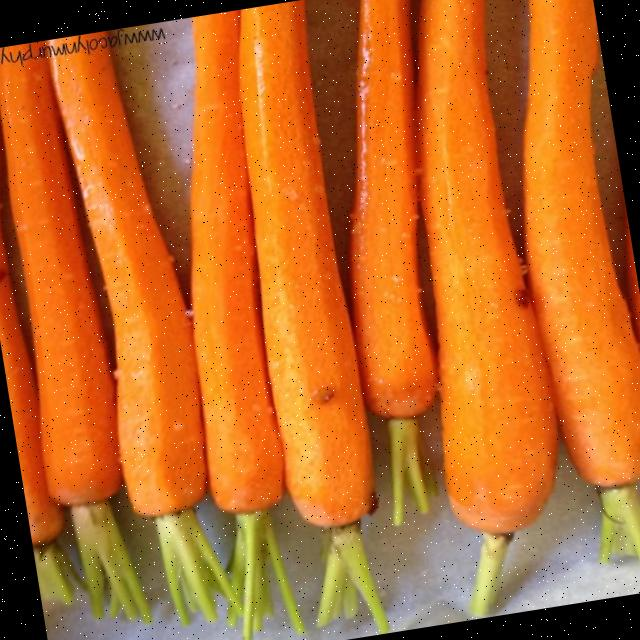carrot: (51, 31, 206, 516), (417, 0, 556, 533), (240, 0, 373, 527), (522, 0, 640, 487), (0, 40, 121, 505), (189, 9, 283, 512), (349, 0, 436, 418), (0, 220, 62, 544)
